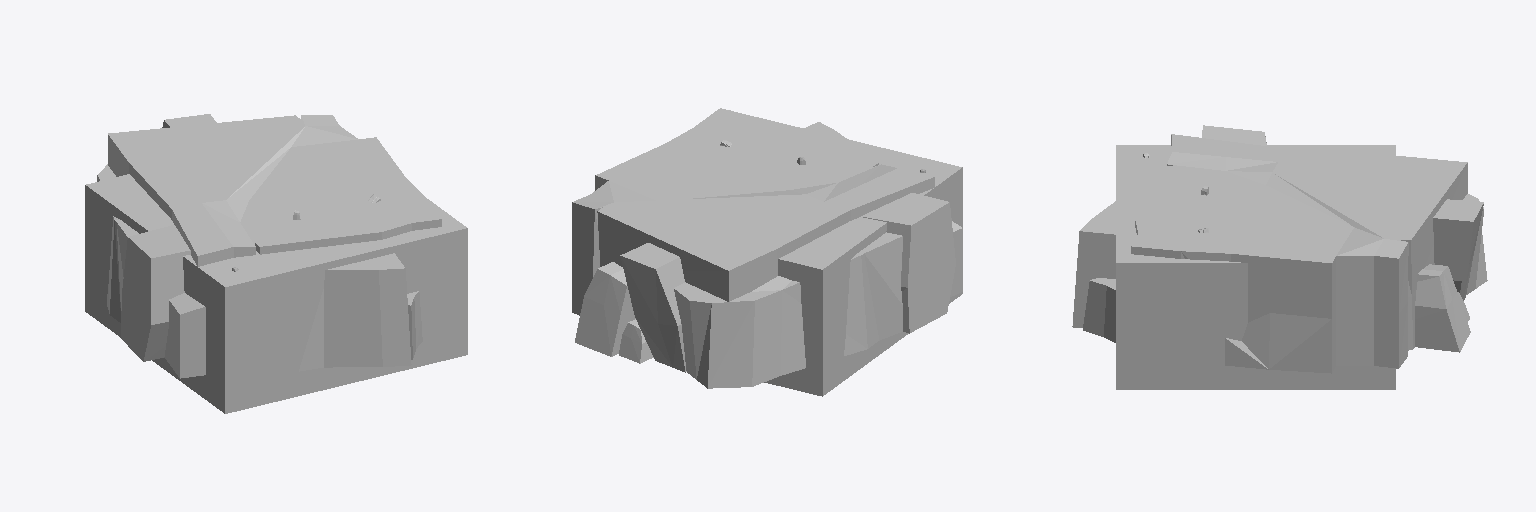
The model's file is cliff_1111_0000.obj.
3 renders of one model, left to right at view 1: azimuth 30°, elevation 25°; view 2: azimuth 150°, elevation 25°; view 3: azimuth 270°, elevation 25°, orthographic.
Parts seen in each view (by area): view 1: tile_1111_0000; view 2: tile_1111_0000; view 3: tile_1111_0000.
Boxes of the visible parts, box(x1,y1,x2,y2) form: tile_1111_0000: box(85, 114, 467, 413); tile_1111_0000: box(572, 108, 962, 396); tile_1111_0000: box(1072, 125, 1487, 389).
Size of the model in its own units: 2.41 by 1.11 by 2.96.